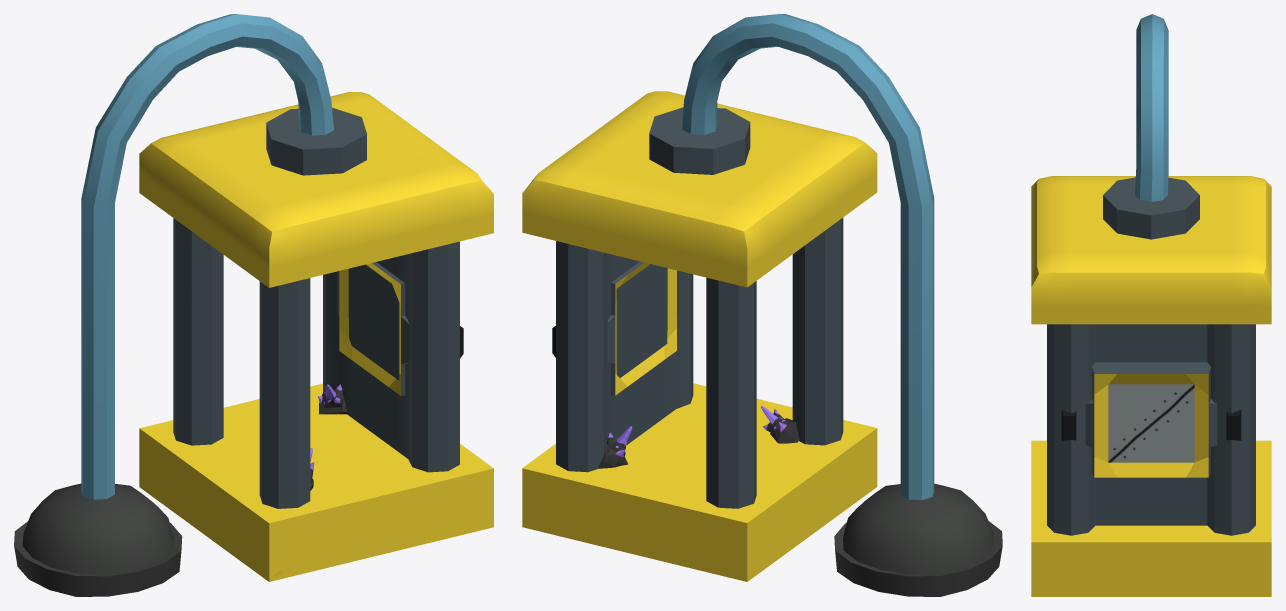
The model's file is CondenserWTextures.fbx.
3 renders of one model, left to right at view 1: azimuth 30°, elevation 25°; view 2: azimuth 150°, elevation 25°; view 3: azimuth 270°, elevation 25°, orthographic. The views are drawn at different scales.
Parts seen in each view (by area): view 1: Base, Output, Crystal; view 2: Base, Output, Crystal.001, Crystal; view 3: Base, Output.
Part boxes in pixels (left/top/right/bottom): Base: left=14, top=14, right=493, bottom=596; Output: left=337, top=262, right=463, bottom=395; Crystal: left=318, top=384, right=347, bottom=414; Base: left=522, top=14, right=1002, bottom=596; Output: left=552, top=261, right=678, bottom=395; Crystal.001: left=761, top=406, right=799, bottom=443; Crystal: left=598, top=426, right=632, bottom=468; Base: left=1031, top=14, right=1271, bottom=596; Output: left=1061, top=362, right=1241, bottom=477.
Bounding box in the file's own units: 180 × 219 × 100.
Materials: 3 (3 with a texture image).
